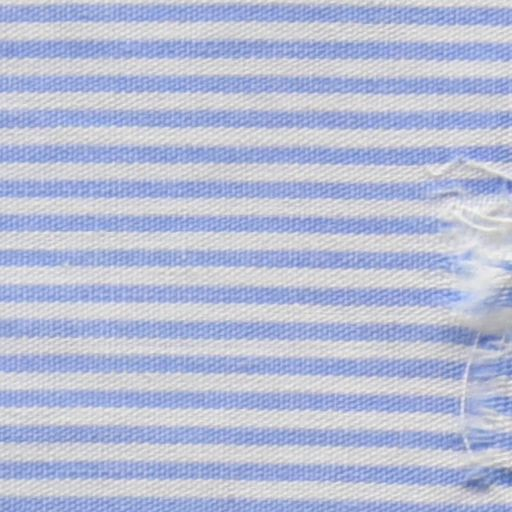defect: (435, 152, 512, 493)
